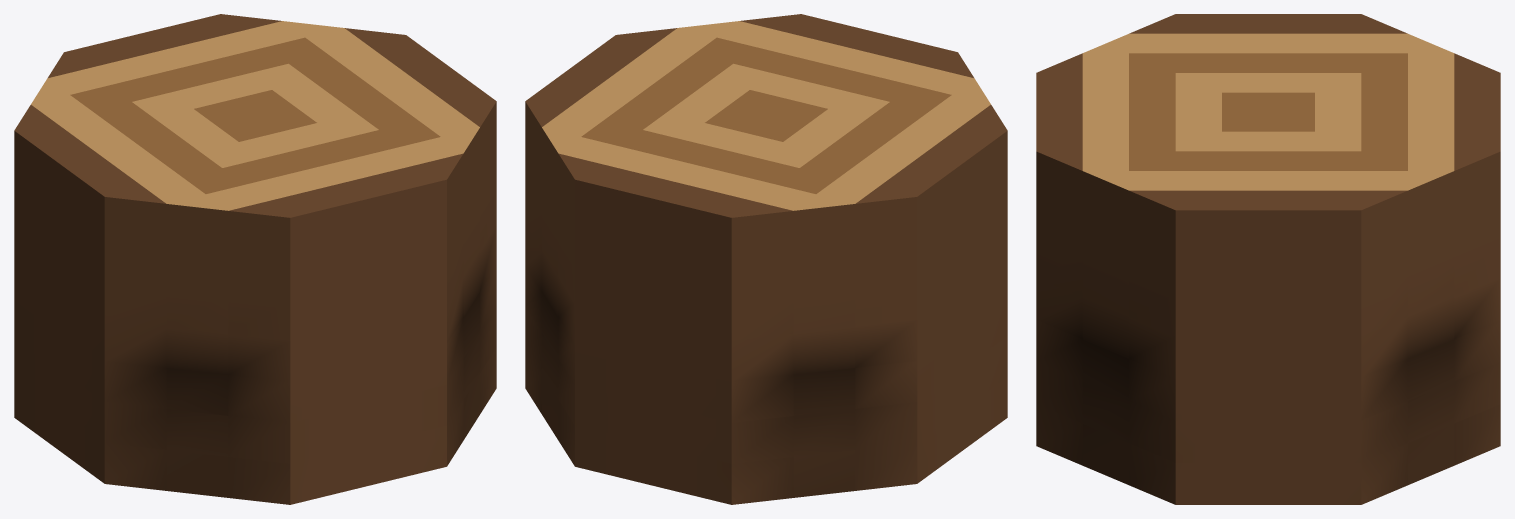
File: Stump.fbx
The picture shows the model from 3 angles, left to right: view 1: azimuth 30°, elevation 25°; view 2: azimuth 150°, elevation 25°; view 3: azimuth 270°, elevation 25°; orthographic projection. The views are drawn at different scales.
Parts seen in each view (by area): view 1: Stump.001; view 2: Stump.001; view 3: Stump.001.
Part boxes in pixels (x1,y1,x2,y2): Stump.001: (14,14,496,504); Stump.001: (525,14,1007,504); Stump.001: (1036,14,1500,504).
Bounding box in the file's own units: 100 × 70.68 × 100.
